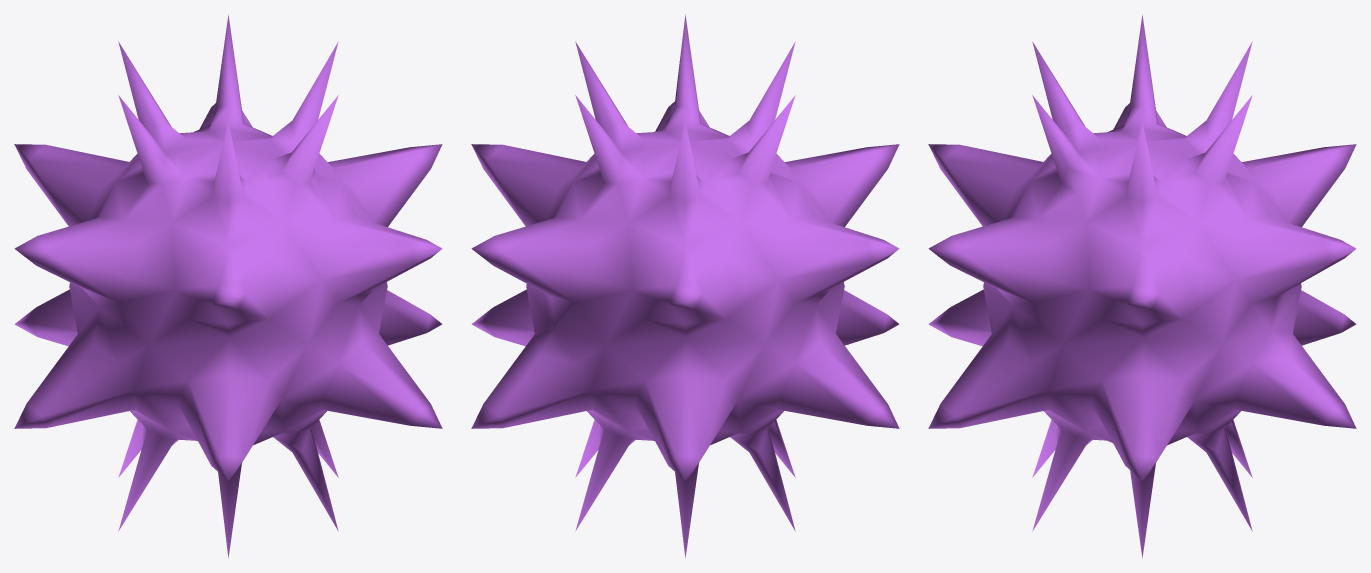
The model's file is monster16.fbx.
3 renders of one model, left to right at view 1: azimuth 30°, elevation 25°; view 2: azimuth 150°, elevation 25°; view 3: azimuth 270°, elevation 25°, orthographic.
Parts seen in each view (by area): view 1: monster16; view 2: monster16; view 3: monster16.
Part boxes in pixels (x1,y1,x2,y2): monster16: [14, 14, 442, 558]; monster16: [471, 14, 899, 558]; monster16: [928, 14, 1356, 558].
Bounding box in the file's own units: 75.14 × 73.31 × 65.07.
